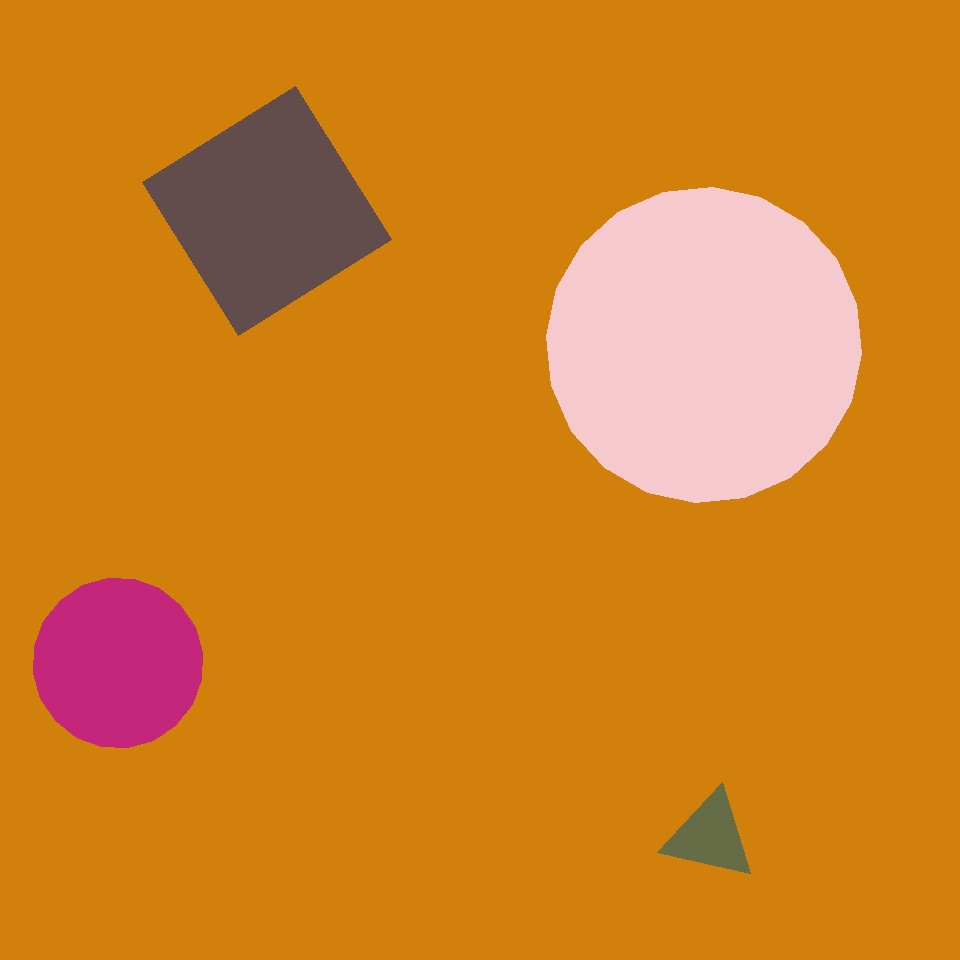circle: (311, 573, 515, 786), (424, 709, 540, 834), (664, 790, 756, 882)
square: (142, 86, 392, 336)
triangle: (546, 188, 862, 502), (354, 218, 644, 508), (33, 578, 202, 748), (128, 72, 264, 208)
